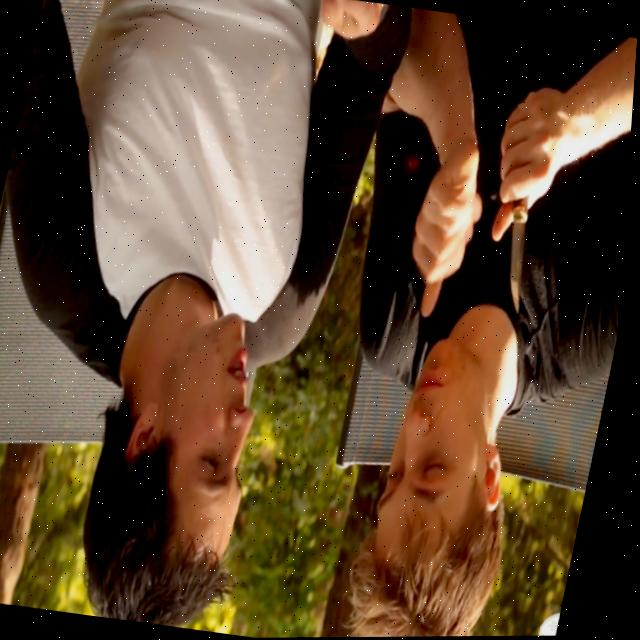knife: (495, 193, 545, 313)
